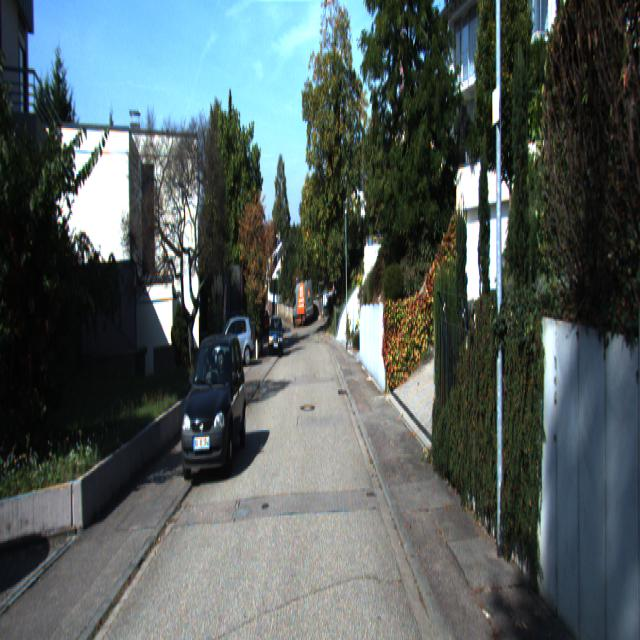Car: (178, 333, 249, 490), (209, 313, 256, 370), (292, 279, 314, 327), (268, 316, 284, 358)
